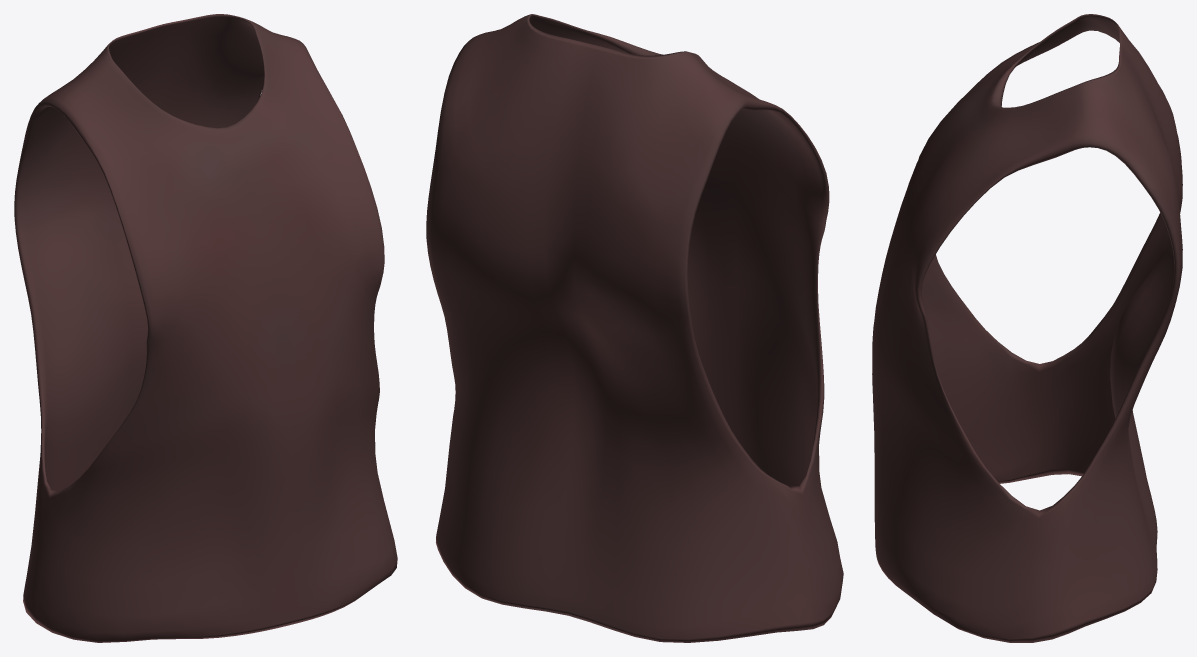
Rendered from SKM_Azachiel_Render_TankTop.fbx.
3 renders of one model, left to right at view 1: azimuth 30°, elevation 25°; view 2: azimuth 150°, elevation 25°; view 3: azimuth 270°, elevation 25°, orthographic. The views are drawn at different scales.
Visible parts, largest first — view 1: tankTop_LOD1; view 2: tankTop_LOD1; view 3: tankTop_LOD1.
Boxes of the visible parts, <box> form: tankTop_LOD1: <box>14,14,397,642</box>; tankTop_LOD1: <box>426,14,843,642</box>; tankTop_LOD1: <box>872,14,1182,642</box>.
Bounding box in the file's own units: 34.78 × 50.96 × 27.72.
